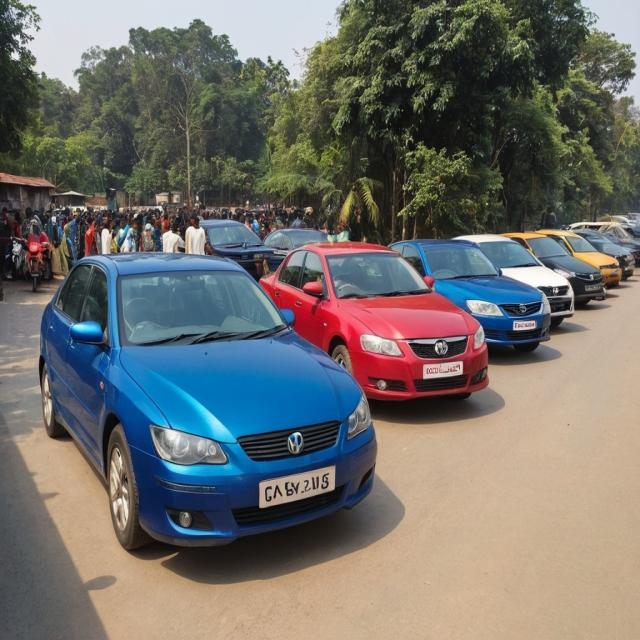black: (510, 227, 610, 304)
blue: (41, 249, 366, 543), (388, 229, 555, 358)
red: (259, 244, 490, 414)
white: (457, 233, 576, 332)
